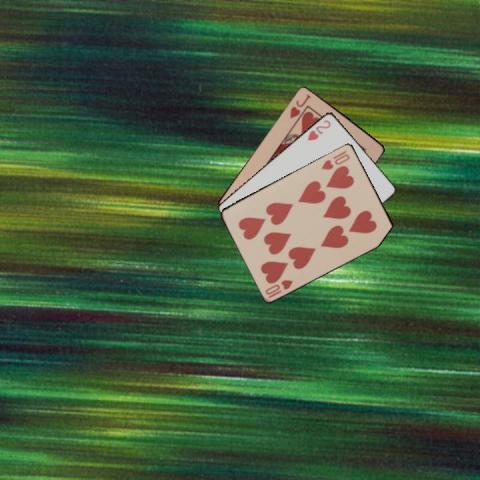10h: (318, 147, 351, 171), (262, 277, 294, 299)
2h: (305, 117, 332, 142)
Jh: (287, 91, 312, 119)
